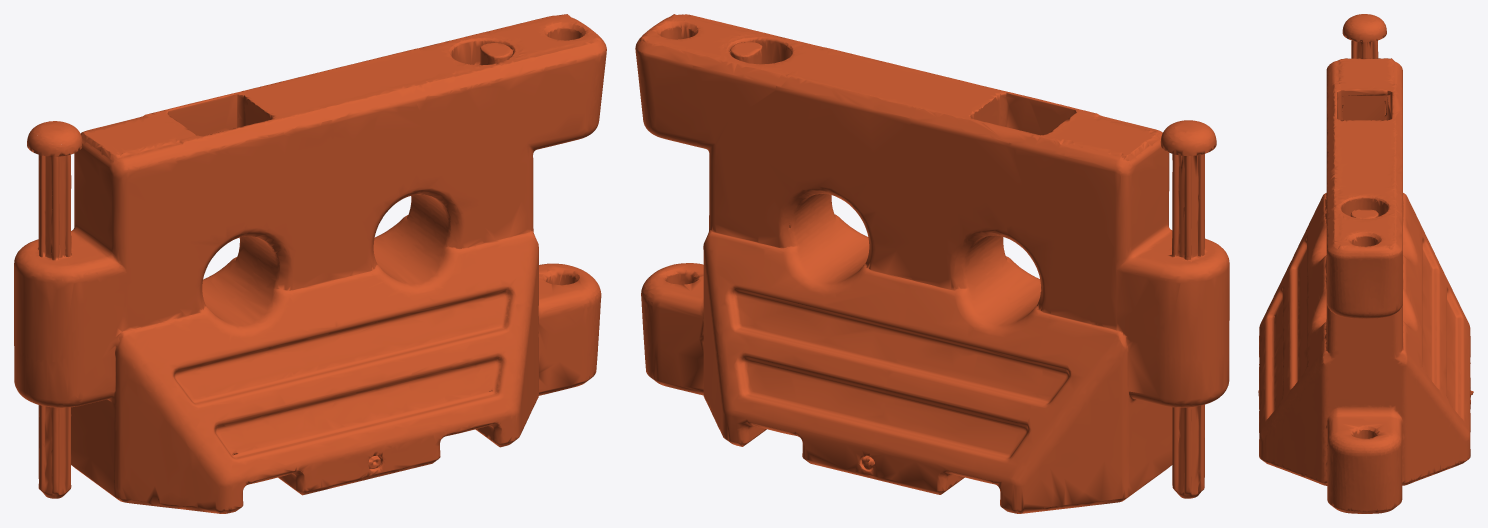
The model's file is watercade.glb.
3 renders of one model, left to right at view 1: azimuth 30°, elevation 25°; view 2: azimuth 150°, elevation 25°; view 3: azimuth 270°, elevation 25°, orthographic. The views are drawn at different scales.
Parts seen in each view (by area): view 1: tripo_node_7c9aec2b-9adf-4cc2-a1b7-320ec634795c; view 2: tripo_node_7c9aec2b-9adf-4cc2-a1b7-320ec634795c; view 3: tripo_node_7c9aec2b-9adf-4cc2-a1b7-320ec634795c.
Part boxes in pixels (bbox=[...]): tripo_node_7c9aec2b-9adf-4cc2-a1b7-320ec634795c: bbox=[14, 14, 606, 513]; tripo_node_7c9aec2b-9adf-4cc2-a1b7-320ec634795c: bbox=[635, 14, 1229, 513]; tripo_node_7c9aec2b-9adf-4cc2-a1b7-320ec634795c: bbox=[1258, 14, 1473, 513].
Size of the model in its own units: 1 by 0.6161 by 0.4106.
